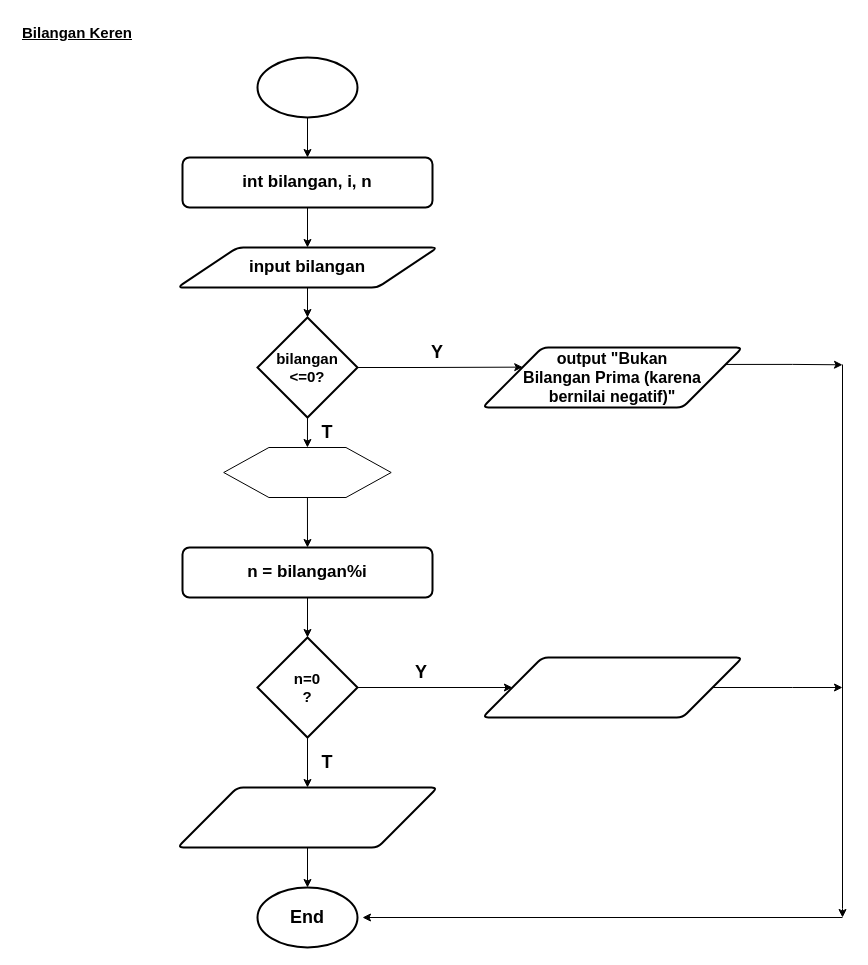
Some shapes in this 868 by 965 pixel diagram are drawn without their labels. Here are the shapes that lost their labels. From the top down, the centre of each, then its label:
point 307,87: Start
point 307,472: i=2; i<=bilangan
point 612,687: output "Bukan Bilangan Prima"
point 307,817: output "Bilangan Prima"
